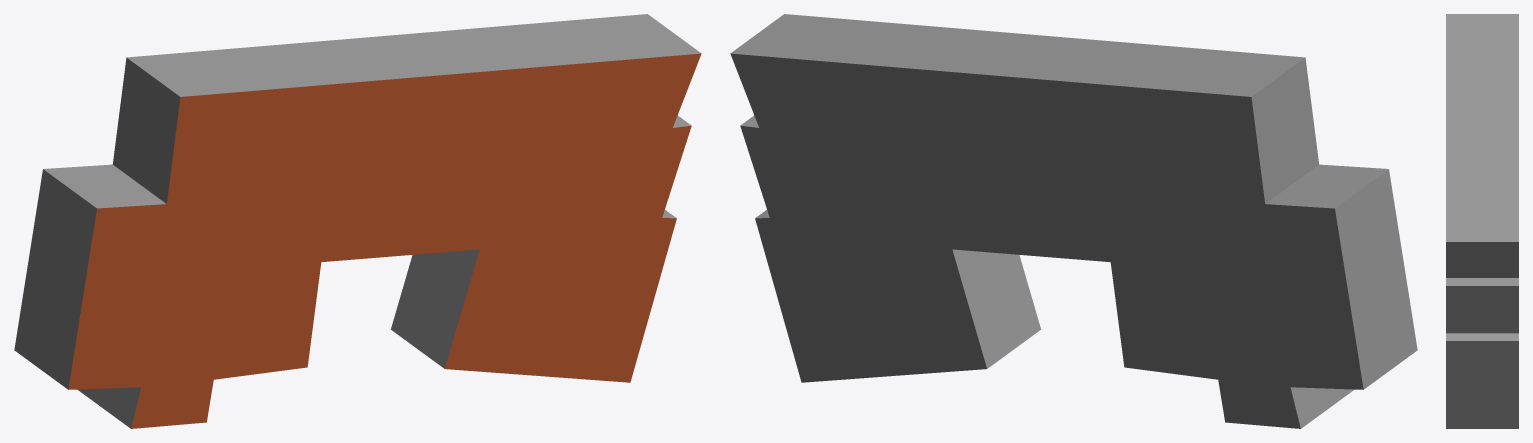
File: construction_5944_assumed_A_Casa_h6m.obj
3 renders of one model, left to right at view 1: azimuth 30°, elevation 25°; view 2: azimuth 150°, elevation 25°; view 3: azimuth 270°, elevation 25°, orthographic. The views are drawn at different scales.
Visible parts, largest first — view 1: construction_5944_assumed_A_Casa; view 2: construction_5944_assumed_A_Casa; view 3: construction_5944_assumed_A_Casa.
Boxes of the visible parts, x1,y1,x2,y2 form: construction_5944_assumed_A_Casa: (14,14,701,428); construction_5944_assumed_A_Casa: (730,14,1417,428); construction_5944_assumed_A_Casa: (1446,14,1518,428).
Bounding box in the file's own units: 40.62 × 24.24 × 6.
